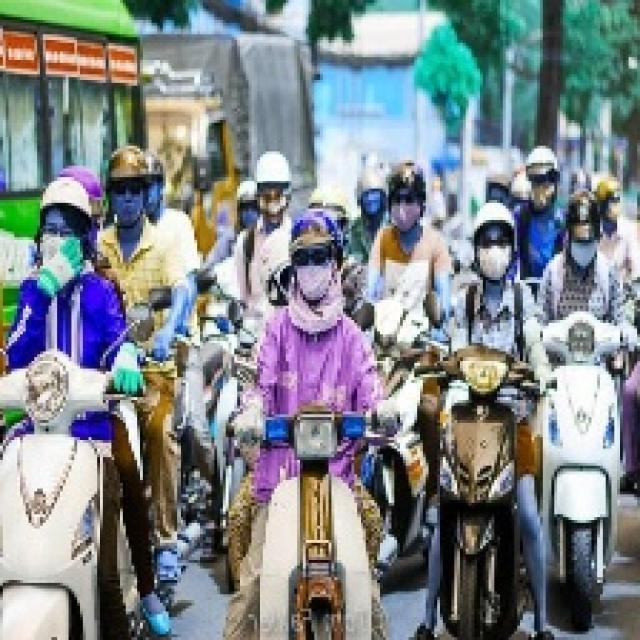Motorcycle: (7, 352, 126, 638), (240, 412, 380, 638), (533, 307, 630, 628), (431, 348, 526, 628)
